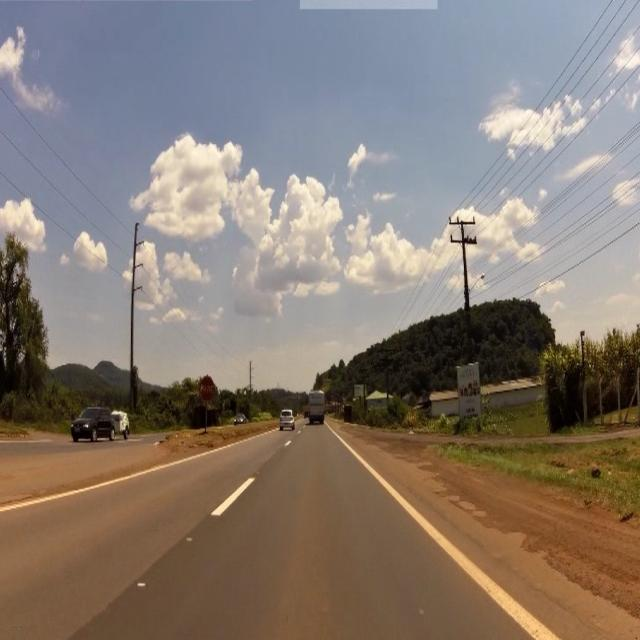R-1: (200, 376, 217, 402)
